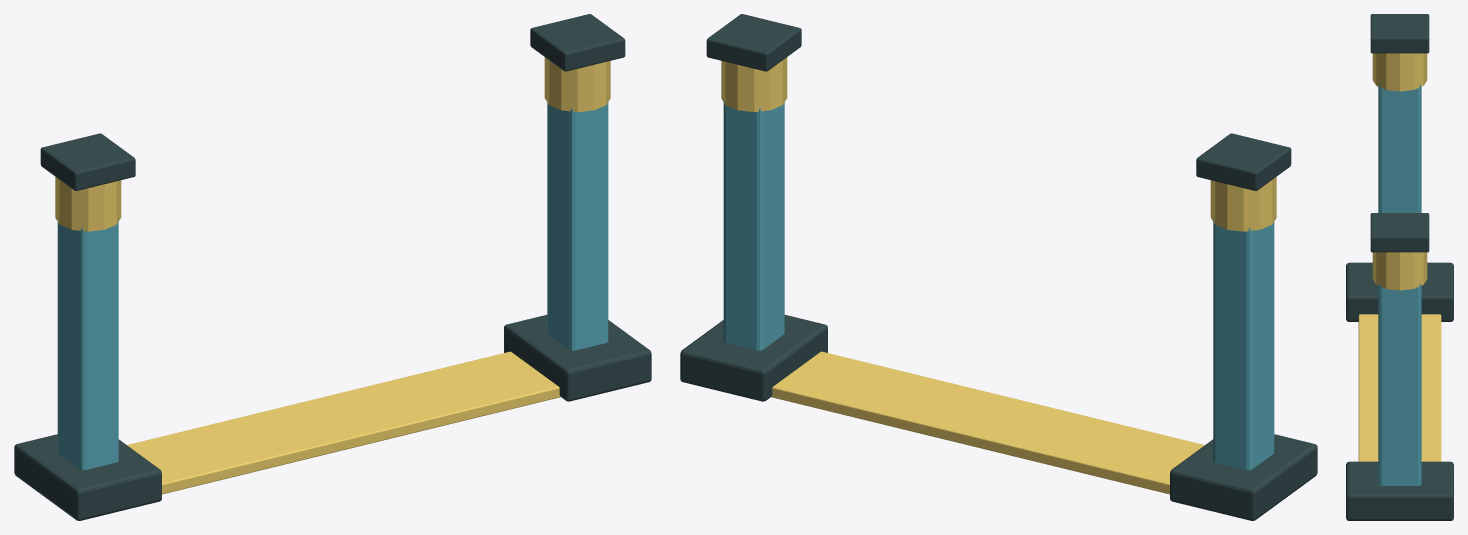
Rendered from PA_DepartureCheckpoint.fbx.
The picture shows the model from 3 angles, left to right: view 1: azimuth 30°, elevation 25°; view 2: azimuth 150°, elevation 25°; view 3: azimuth 270°, elevation 25°; orthographic projection. The views are drawn at different scales.
Visible parts, largest first — view 1: PA_DepartureCheckpoint; view 2: PA_DepartureCheckpoint; view 3: PA_DepartureCheckpoint.
Part boxes in pixels (x1=…): PA_DepartureCheckpoint: x1=14, y1=14, x2=651, y2=520; PA_DepartureCheckpoint: x1=680, y1=14, x2=1317, y2=520; PA_DepartureCheckpoint: x1=1346, y1=14, x2=1453, y2=520.
Size of the model in its own units: 2.82 by 1.57 by 0.55.
